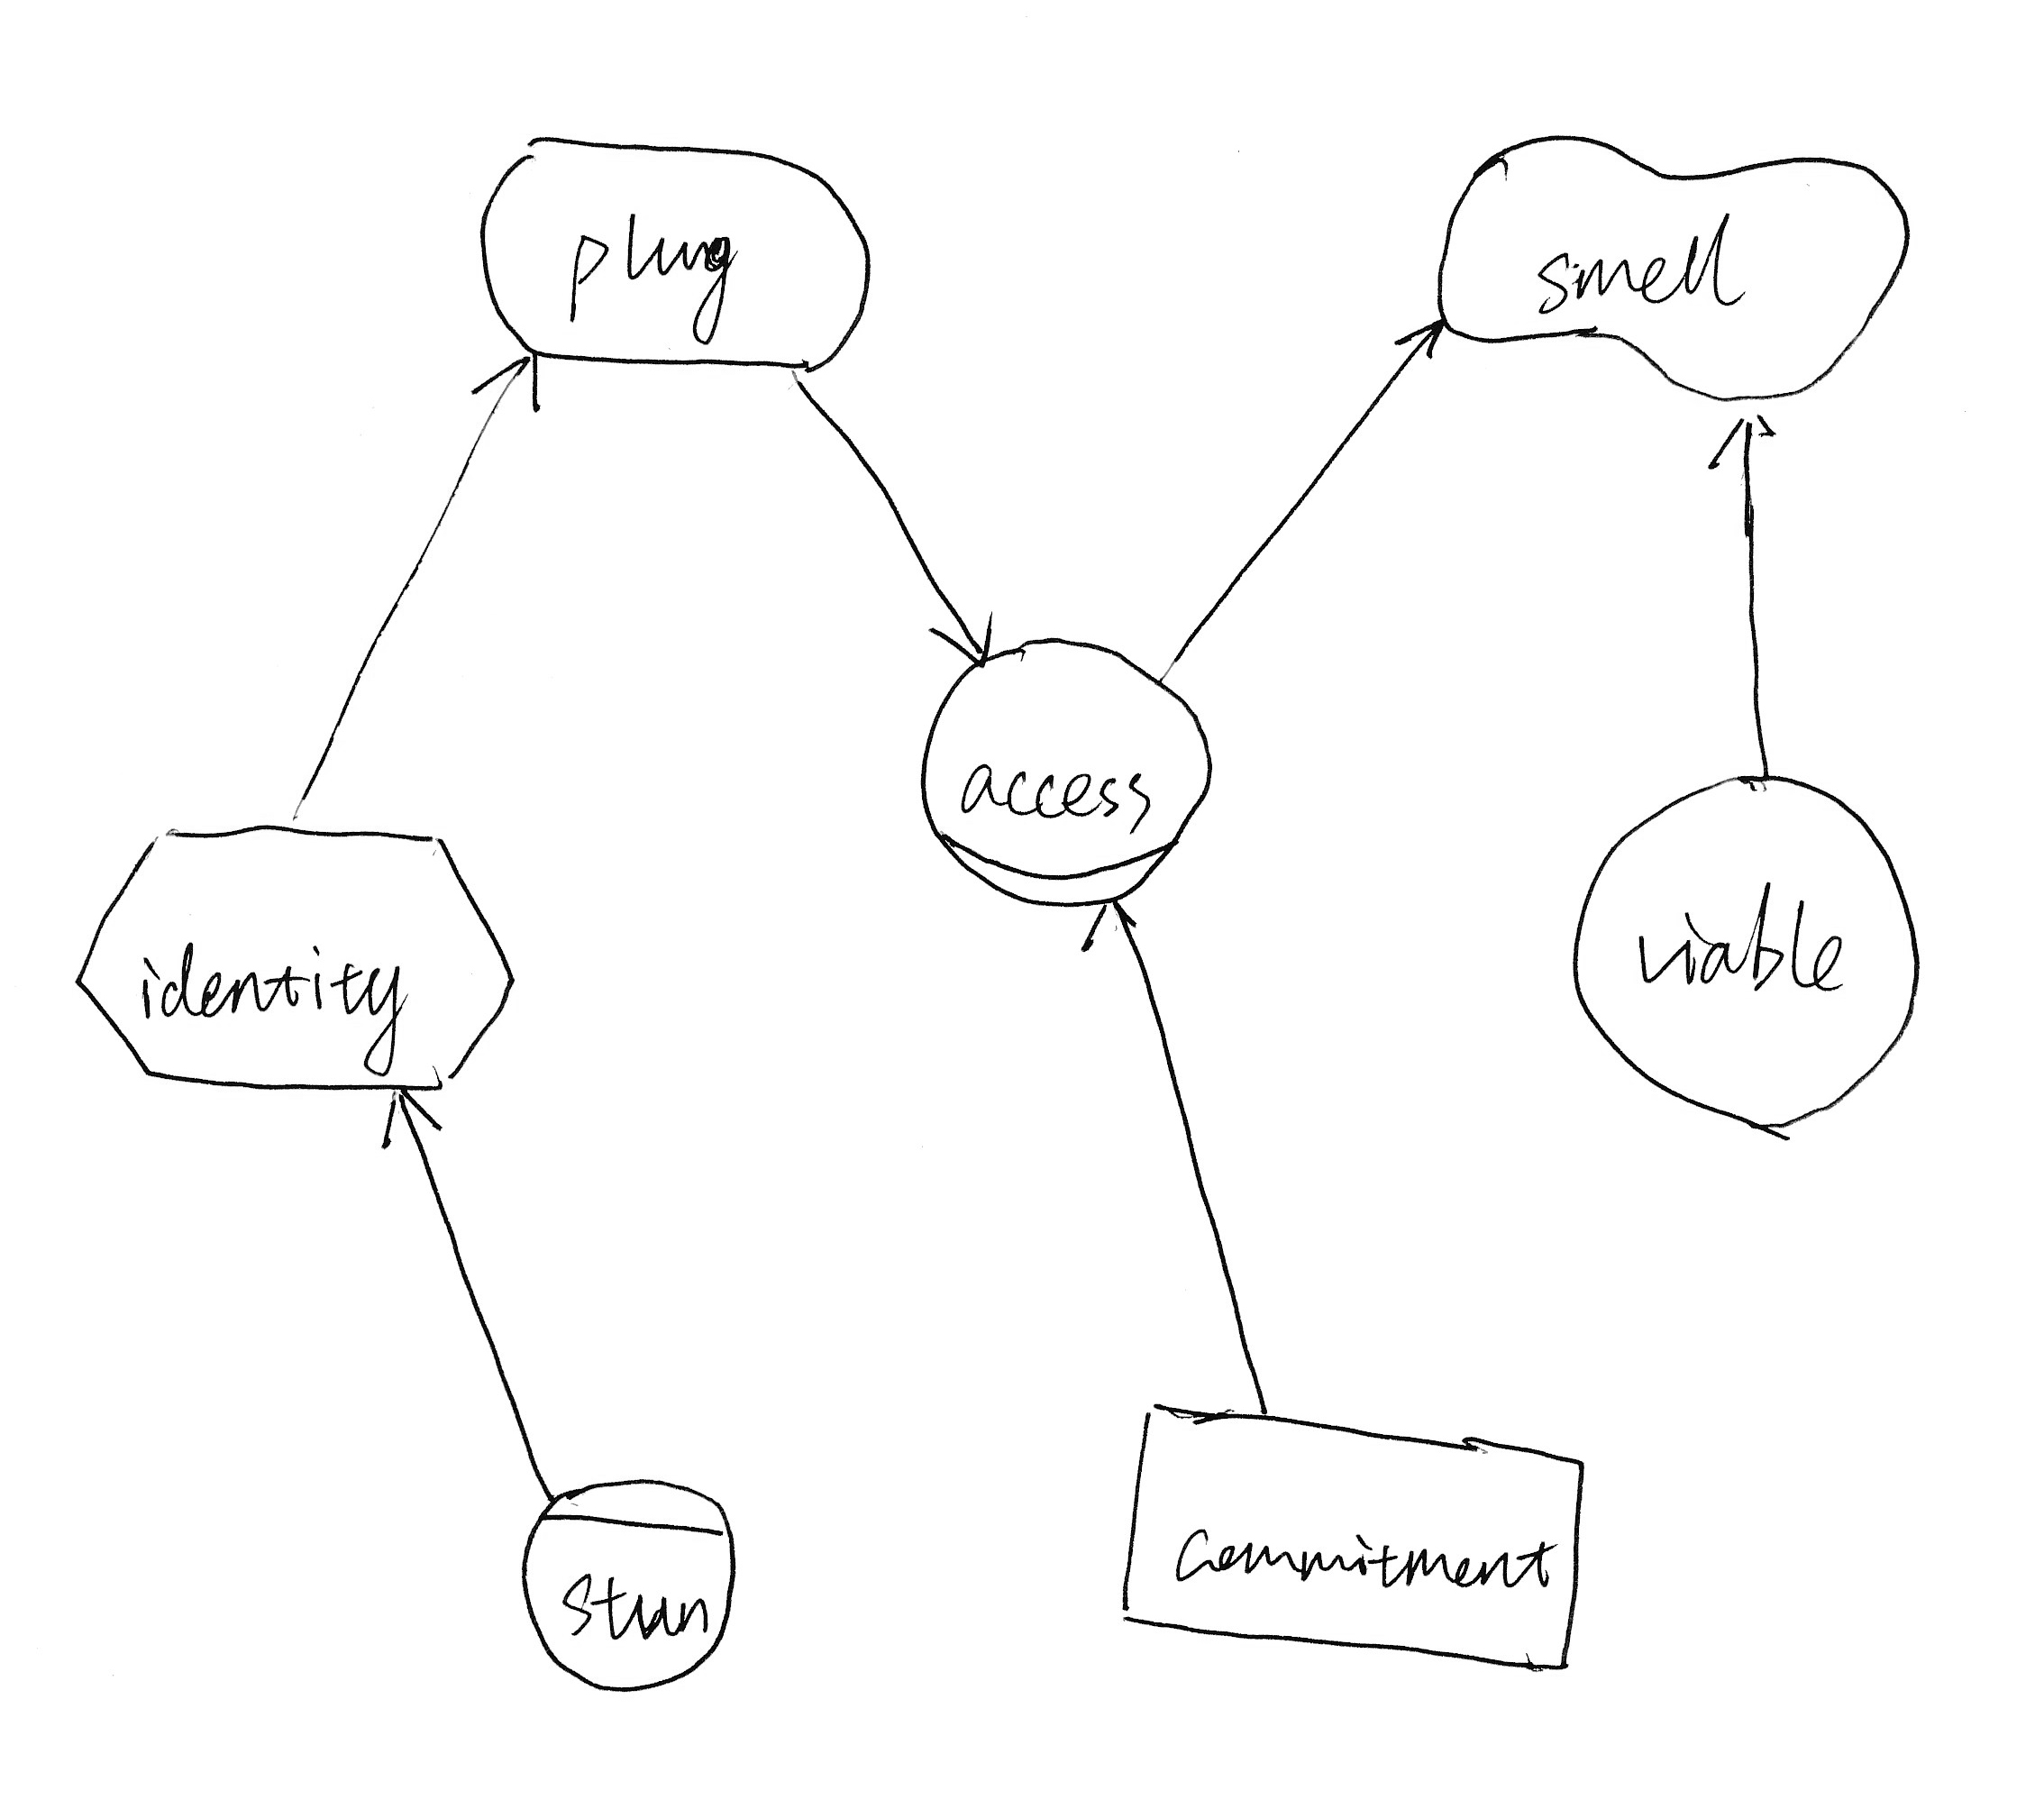actor: (1554, 757, 1931, 1160)
agent: (509, 1468, 760, 1703)
arrow: (1689, 397, 1797, 483), (909, 586, 1003, 675), (462, 343, 554, 431), (365, 1080, 461, 1160), (1375, 304, 1455, 383), (1076, 894, 1154, 957)
goal: (462, 118, 881, 391)
quality: (1423, 117, 1926, 410)
resource: (1095, 1384, 1597, 1687)
role: (912, 630, 1222, 920)
task: (61, 817, 523, 1108)
